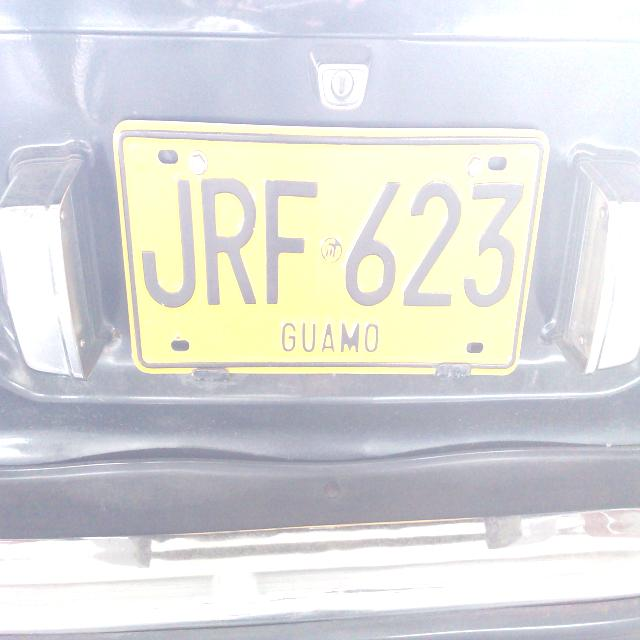placa: (106, 106, 553, 389)
